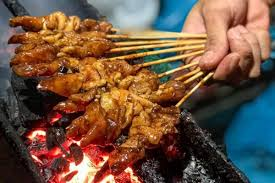sate: (7, 8, 208, 172)
